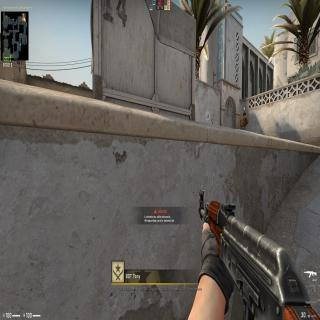T-Head: (243, 112, 246, 117)
